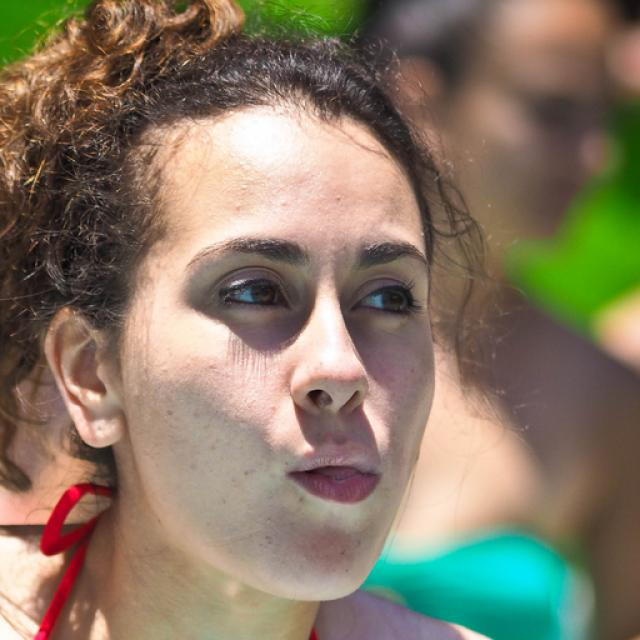Acne: (270, 191, 296, 213), (204, 356, 222, 377), (229, 196, 249, 213), (332, 187, 345, 206), (236, 183, 253, 194)
